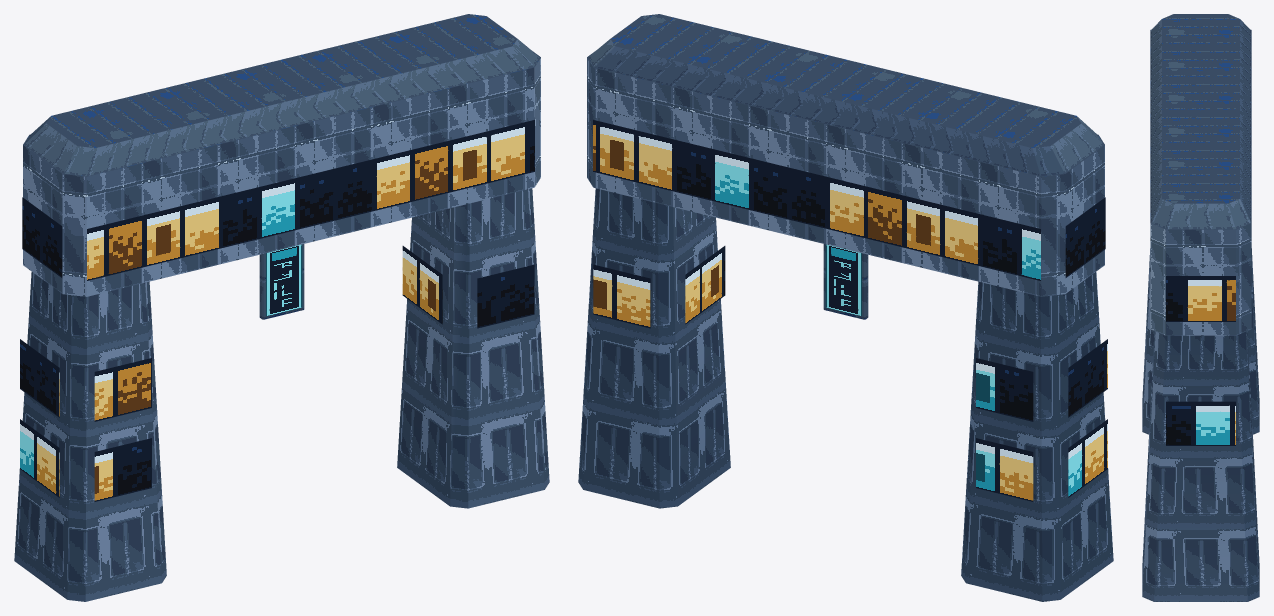
File: cytower.arch.glb
3 renders of one model, left to right at view 1: azimuth 30°, elevation 25°; view 2: azimuth 150°, elevation 25°; view 3: azimuth 270°, elevation 25°, orthographic. The views are drawn at different scales.
Parts seen in each view (by area): view 1: kit_arch, kit_card_windows; view 2: kit_arch, kit_card_windows; view 3: kit_arch, kit_card_windows.
Boxes of the visible parts, left/top/right/bottom form: kit_arch: left=14, top=14, right=549, bottom=601; kit_card_windows: left=20, top=120, right=534, bottom=501; kit_arch: left=578, top=14, right=1113, bottom=601; kit_card_windows: left=593, top=120, right=1107, bottom=501; kit_arch: left=1142, top=14, right=1259, bottom=601; kit_card_windows: left=1166, top=276, right=1235, bottom=445.
Bounding box in the file's own units: 25.3 × 22 × 6.
Materials: 9 (9 with a texture image).
